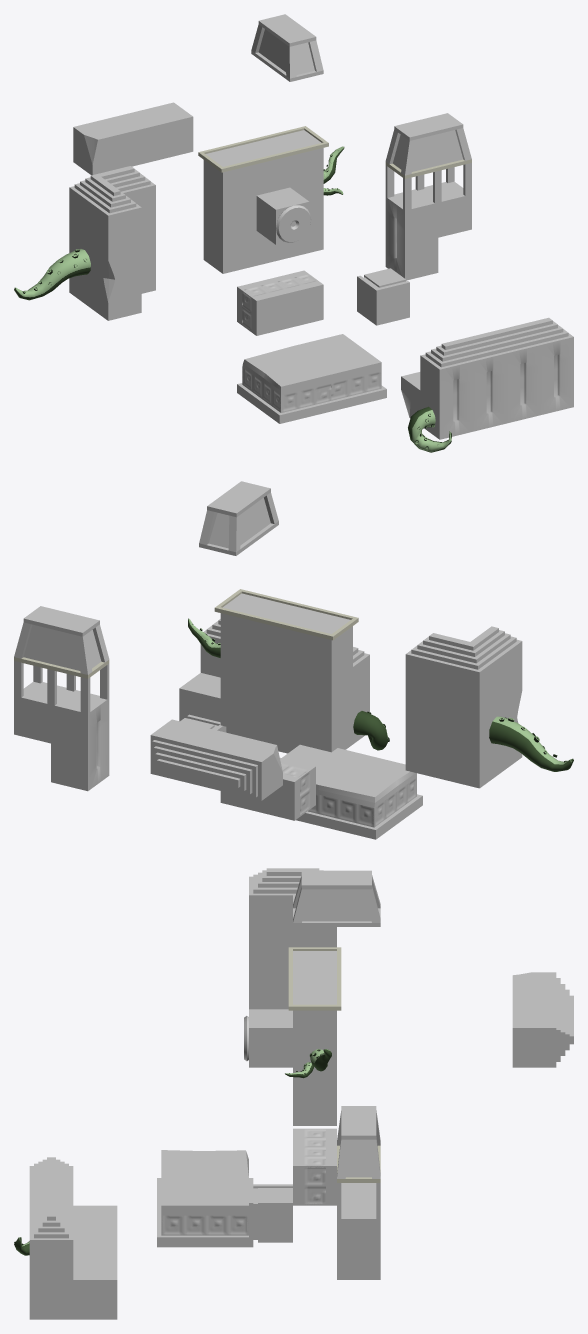
File: env.fbx
3 views of the same model, one above another, from view 1: azimuth 30°, elevation 25°; view 2: azimuth 150°, elevation 25°; view 3: azimuth 270°, elevation 25° (orthographic). The views are drawn at different scales.
Parts seen in each view (by area): view 1: env, octo_arms; view 2: env, octo_arms; view 3: env, octo_arms.
Boxes of the visible parts, left/top/right/bottom form: env: left=69, top=14, right=573, bottom=439; octo_arms: left=14, top=146, right=451, bottom=452; env: left=14, top=481, right=522, bottom=839; octo_arms: left=188, top=618, right=573, bottom=771; env: left=29, top=868, right=573, bottom=1319; octo_arms: left=14, top=1049, right=331, bottom=1255.
Bounding box in the file's own units: 141 × 93.22 × 128.
